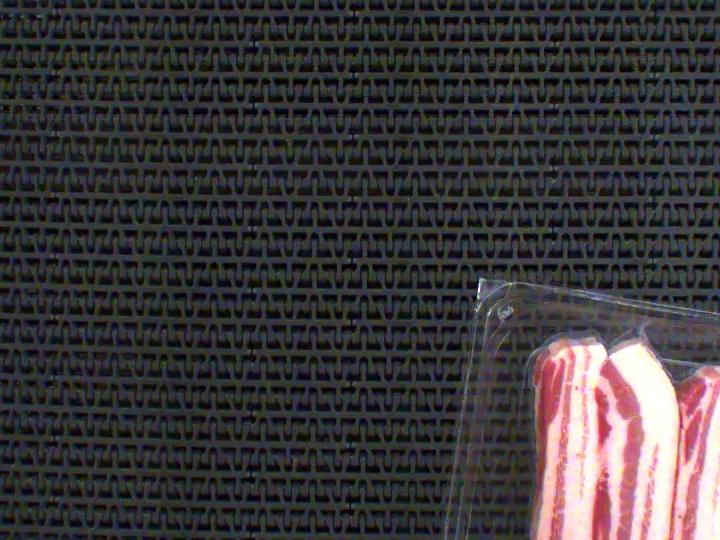unsealed: (527, 322, 675, 368)
